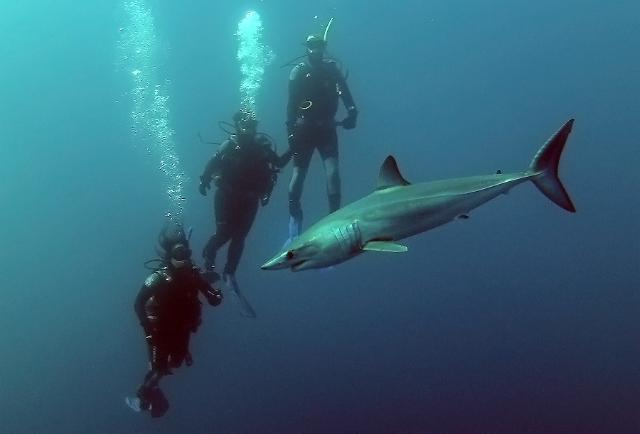Mulut: (283, 252, 315, 288)
Sirip Anal: (487, 159, 515, 205)
Sirip Dada: (353, 228, 413, 268)
Sirip Ekor: (525, 102, 591, 222)
Sirip Perut: (447, 204, 477, 226)
Sirip Punggung: (357, 144, 423, 204)
